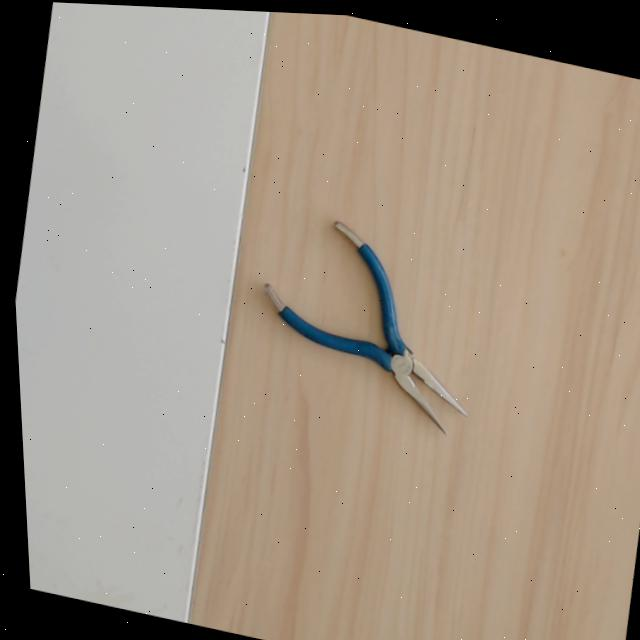Tang-Jepit-Biru: (256, 216, 496, 465)
